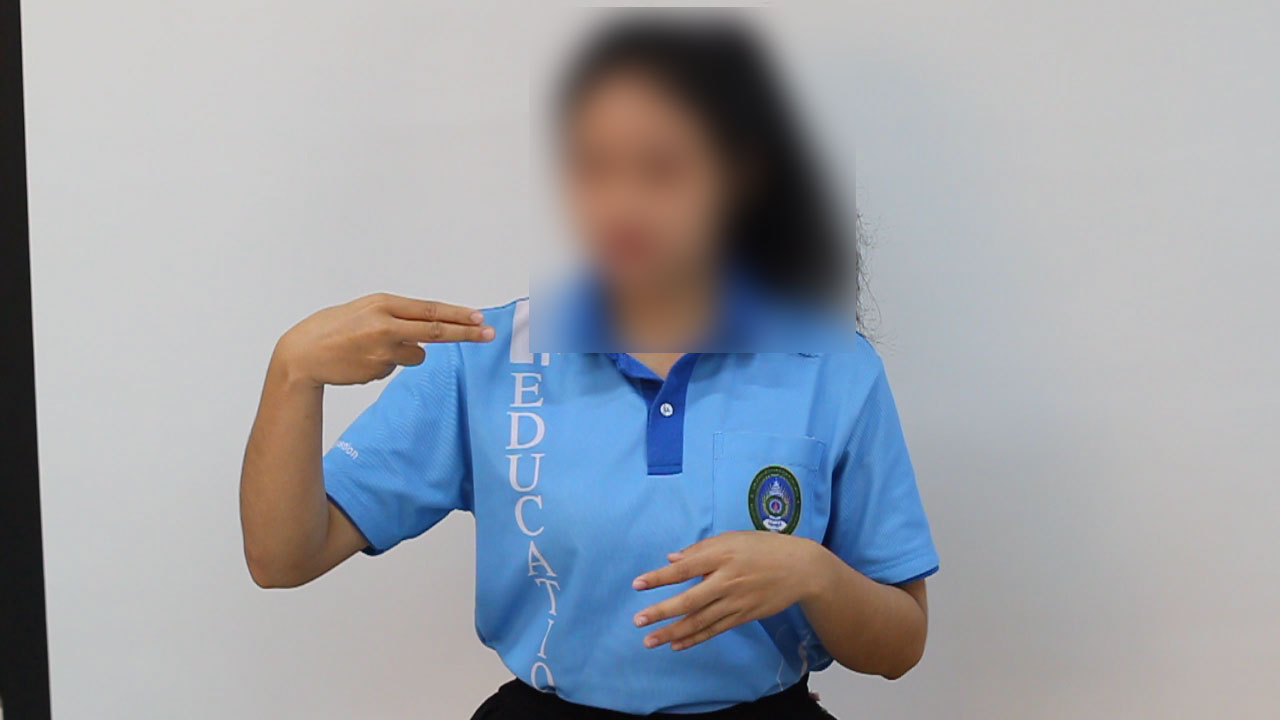hor: (253, 284, 506, 397)
